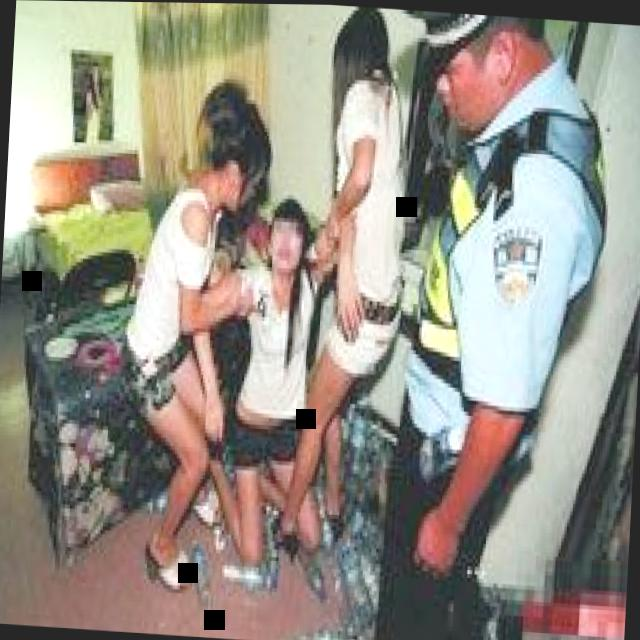Fall-Detected: (187, 170, 354, 599)
